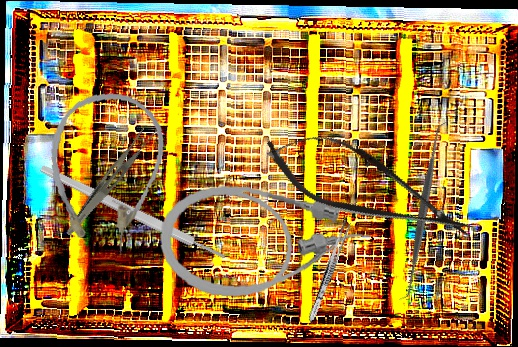Cannula: (155, 180, 374, 308), (38, 86, 171, 259)
Dressing Forceps: (64, 119, 160, 245), (305, 218, 353, 325)
Micro Scissor: (253, 113, 485, 262)
Scalpel Handle: (38, 162, 228, 264)
Spatula Surgical: (333, 120, 514, 301)
